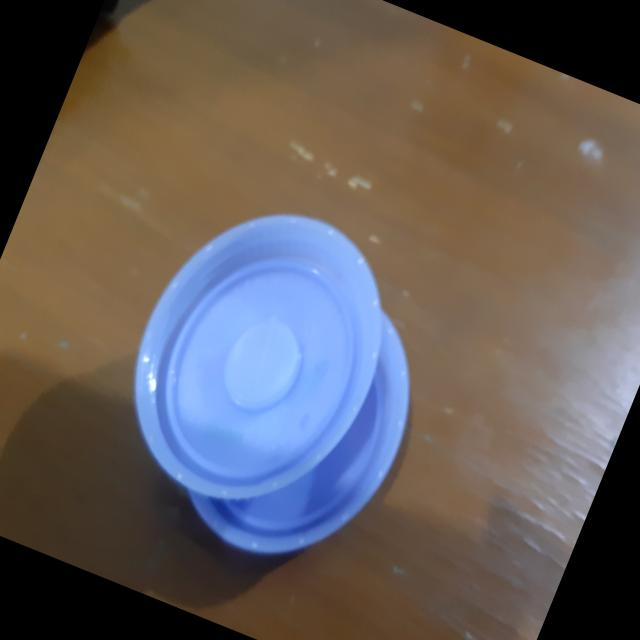TutupGalon: (78, 171, 470, 594)
